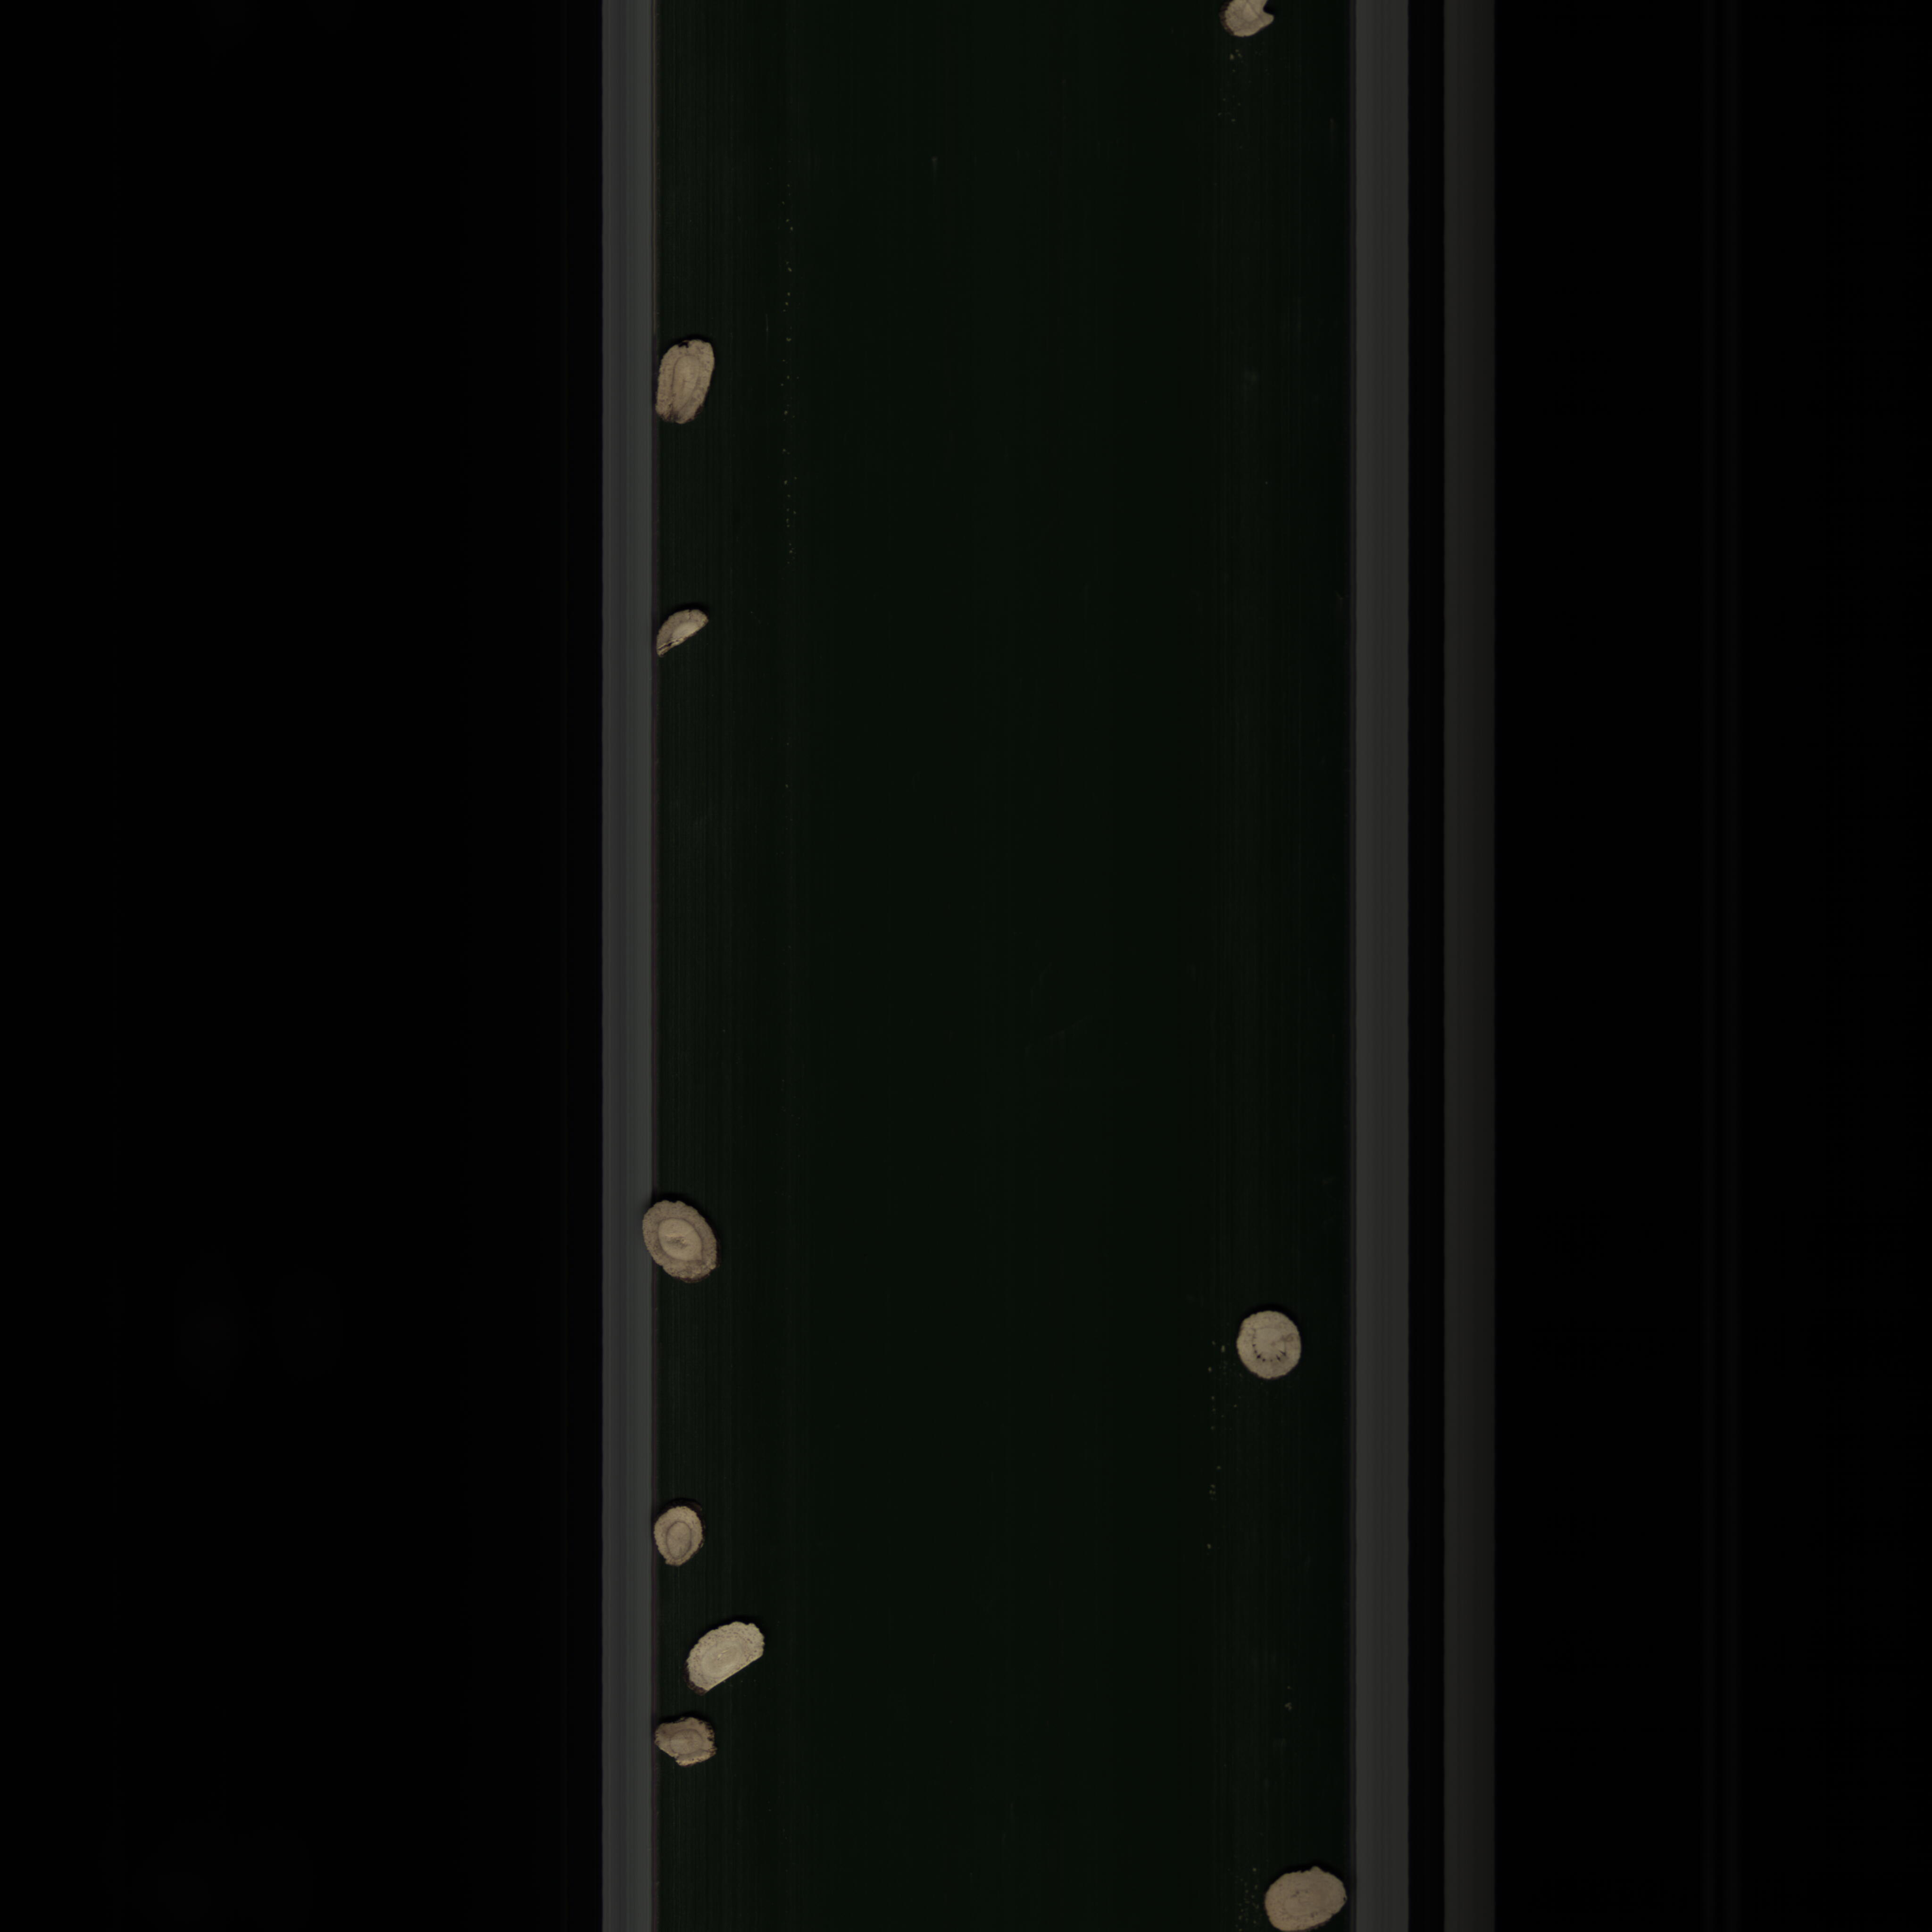debris: (674, 1614, 794, 1700), (1254, 1856, 1350, 1928), (649, 609, 731, 663)
distortion: (658, 336, 725, 432)
hole: (1230, 1300, 1307, 1389)
moldy: (646, 1702, 732, 1776)
